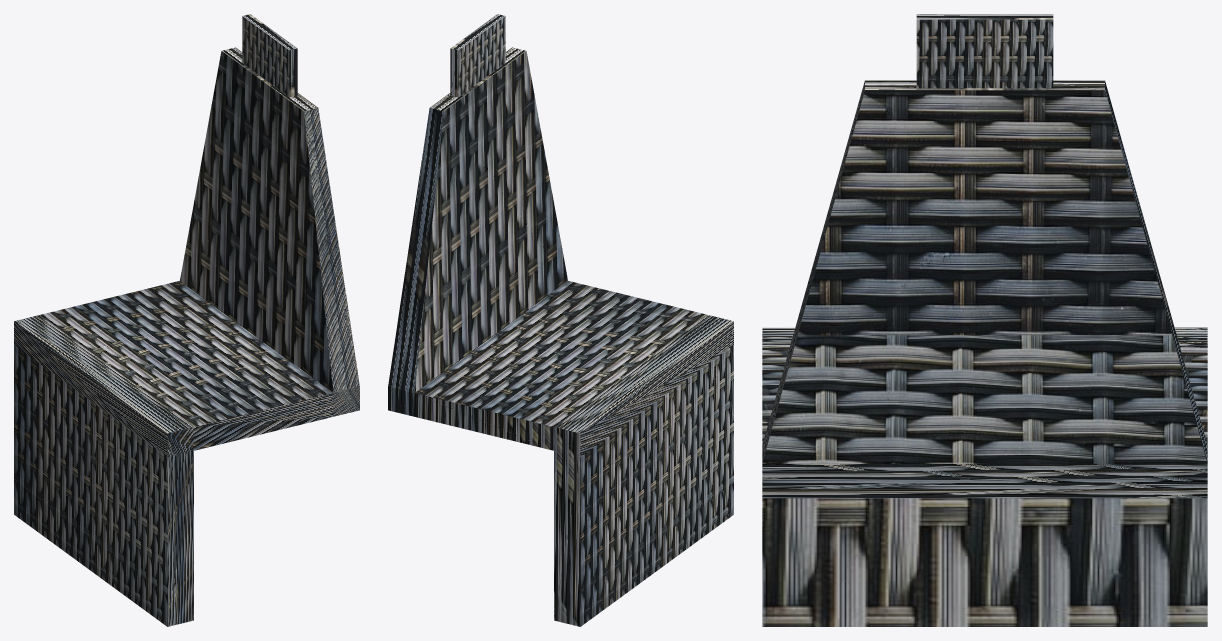
Rendered from chair.fbx.
The picture shows the model from 3 angles, left to right: view 1: azimuth 30°, elevation 25°; view 2: azimuth 150°, elevation 25°; view 3: azimuth 270°, elevation 25°; orthographic projection. The views are drawn at different scales.
Parts seen in each view (by area): view 1: Cube; view 2: Cube; view 3: Cube.
Part boxes in pixels (x1,y1,x2,y2): Cube: (14,14,359,626); Cube: (388,14,733,626); Cube: (762,14,1207,626).
Size of the model in its own units: 145 by 356 by 200.
